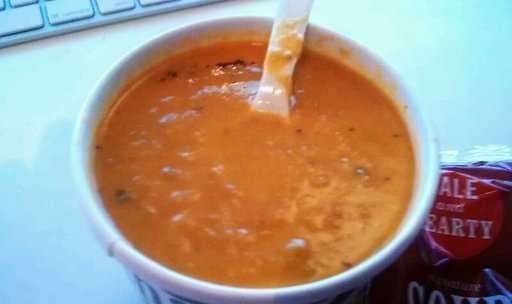soup: (109, 36, 397, 274)
